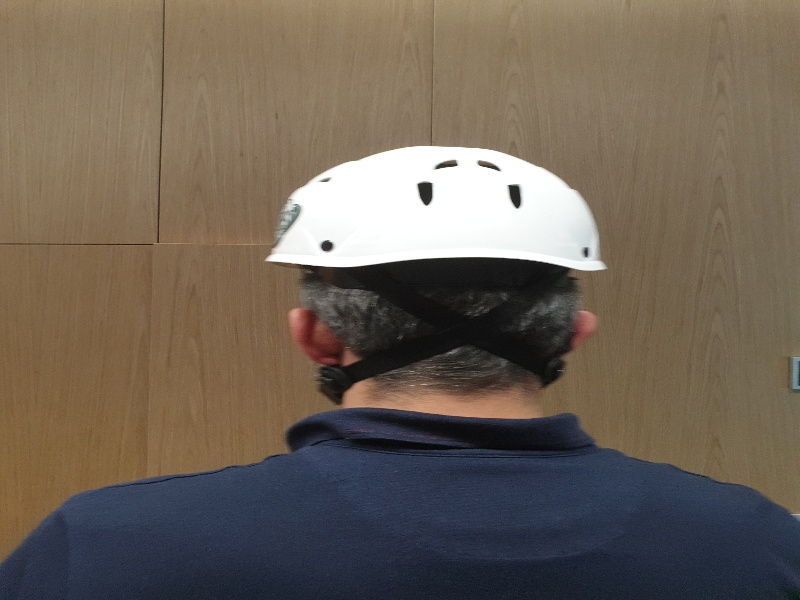Baret: (266, 146, 612, 278)
